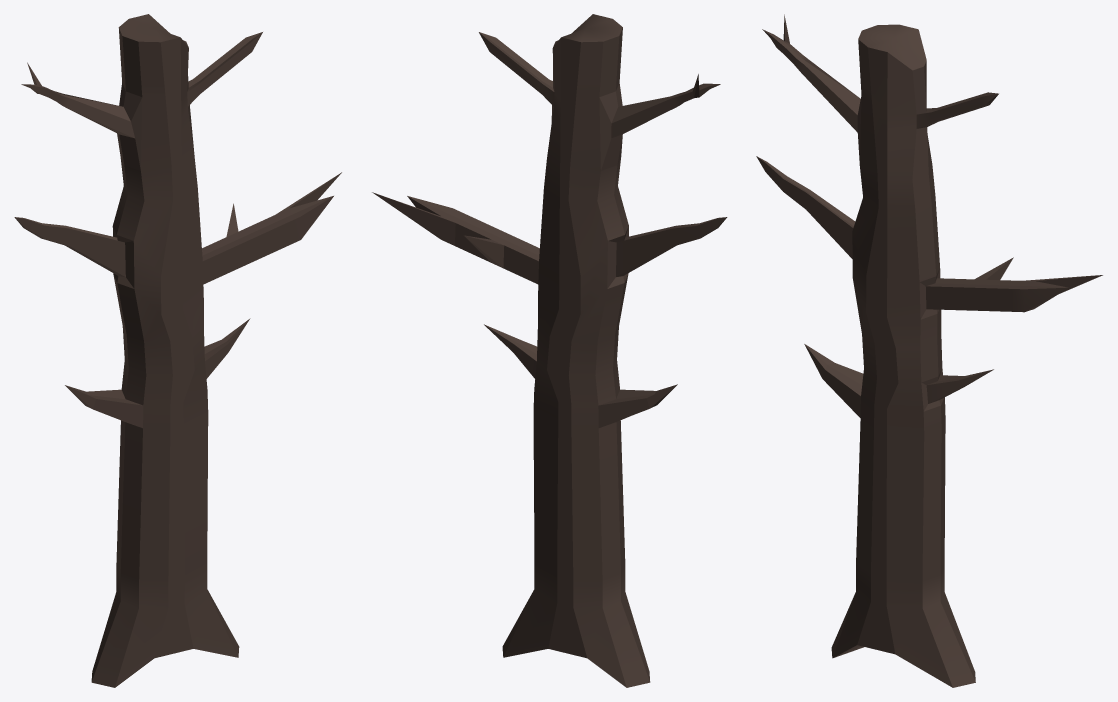
Rendered from Tree_Dead3.fbx.
3 views of the same model, side by side, from view 1: azimuth 30°, elevation 25°; view 2: azimuth 150°, elevation 25°; view 3: azimuth 330°, elevation 25° (orthographic). The views are drawn at different scales.
Visible parts, largest first — view 1: pCylinder2; view 2: pCylinder2; view 3: pCylinder2.
Part boxes in pixels (x1,y1,x2,y2): pCylinder2: (14, 14, 341, 687); pCylinder2: (372, 14, 727, 687); pCylinder2: (756, 14, 1102, 687).
Bounding box in the file's own units: 1.18 × 2.1 × 0.2417.
